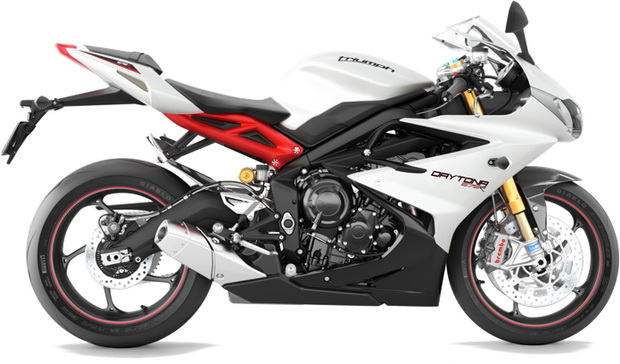motorcycle: (23, 18, 619, 349)
